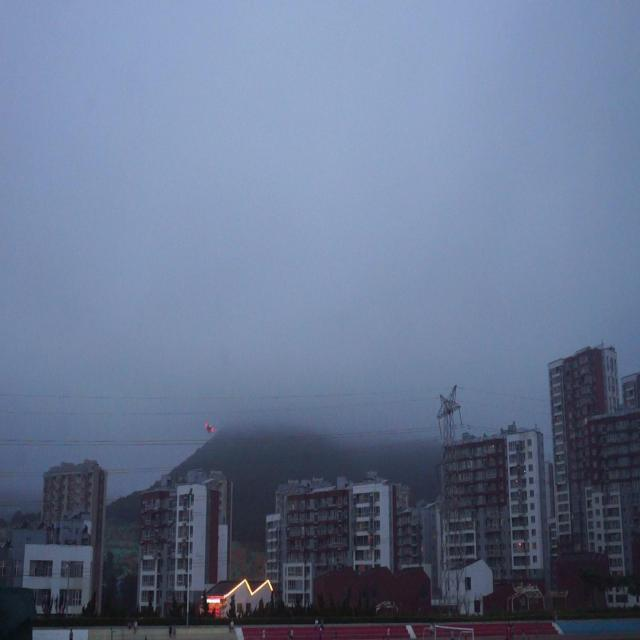drone: (202, 418, 218, 438)
